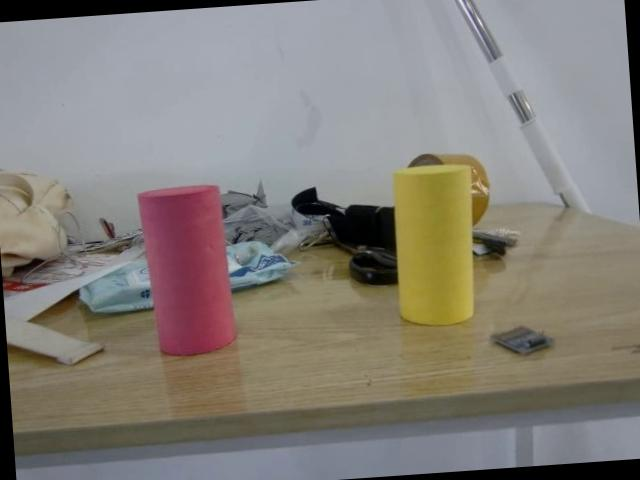red_cylinder: (138, 183, 236, 359)
yellow_cylinder: (390, 163, 477, 327)
